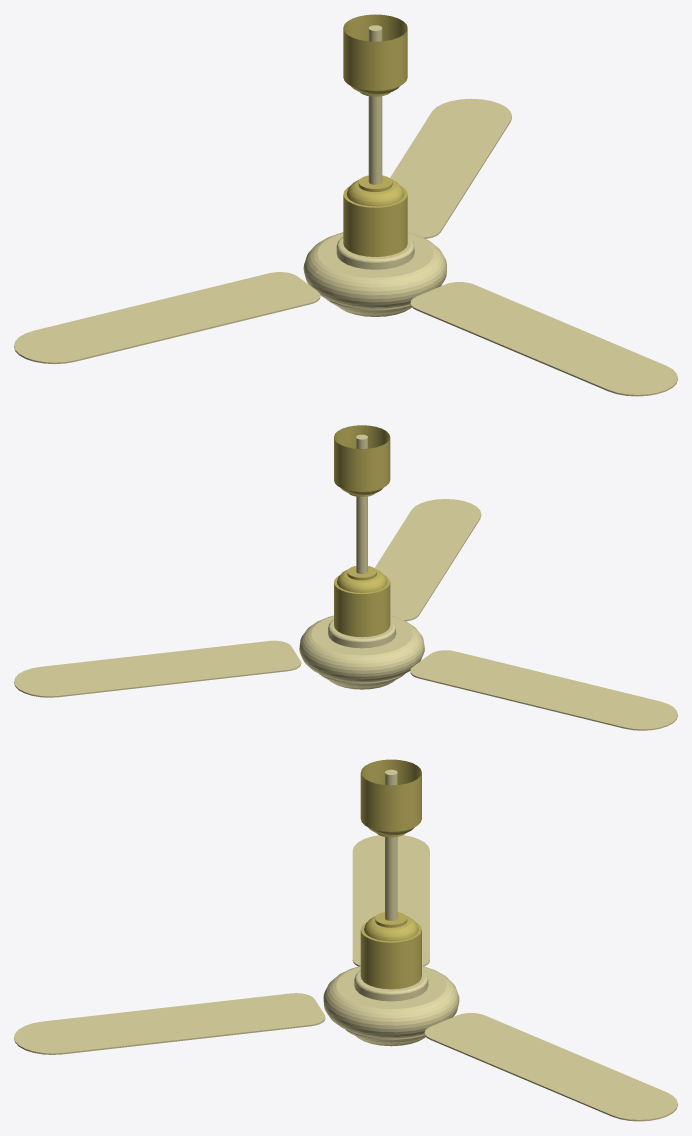
The model's file is Fan.gltf.
3 views of the same model, one above another, from view 1: azimuth 30°, elevation 25°; view 2: azimuth 150°, elevation 25°; view 3: azimuth 270°, elevation 25° (orthographic). The views are drawn at different scales.
Parts seen in each view (by area): view 1: root; view 2: root; view 3: root.
Boxes of the visible parts, x1,y1,x2,y2 form: root: [14, 14, 677, 396]; root: [14, 425, 677, 730]; root: [14, 759, 677, 1121].
Size of the model in its own units: 1.05 by 0.4417 by 1.03.
